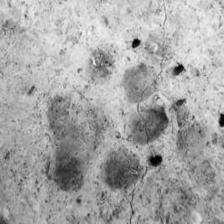dog: (34, 40, 189, 190)
